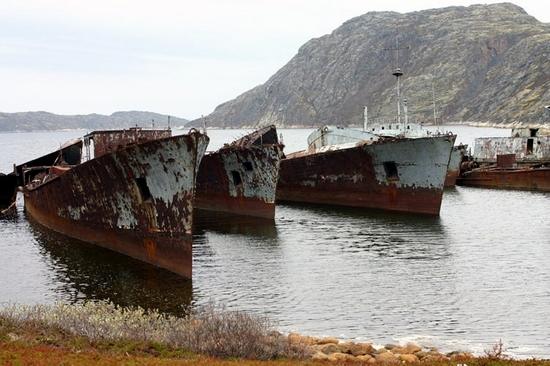rust: (282, 158, 386, 208), (24, 183, 113, 236), (126, 228, 194, 276), (464, 169, 550, 188), (199, 160, 225, 209), (396, 188, 444, 212), (162, 194, 195, 221), (234, 201, 273, 214)
